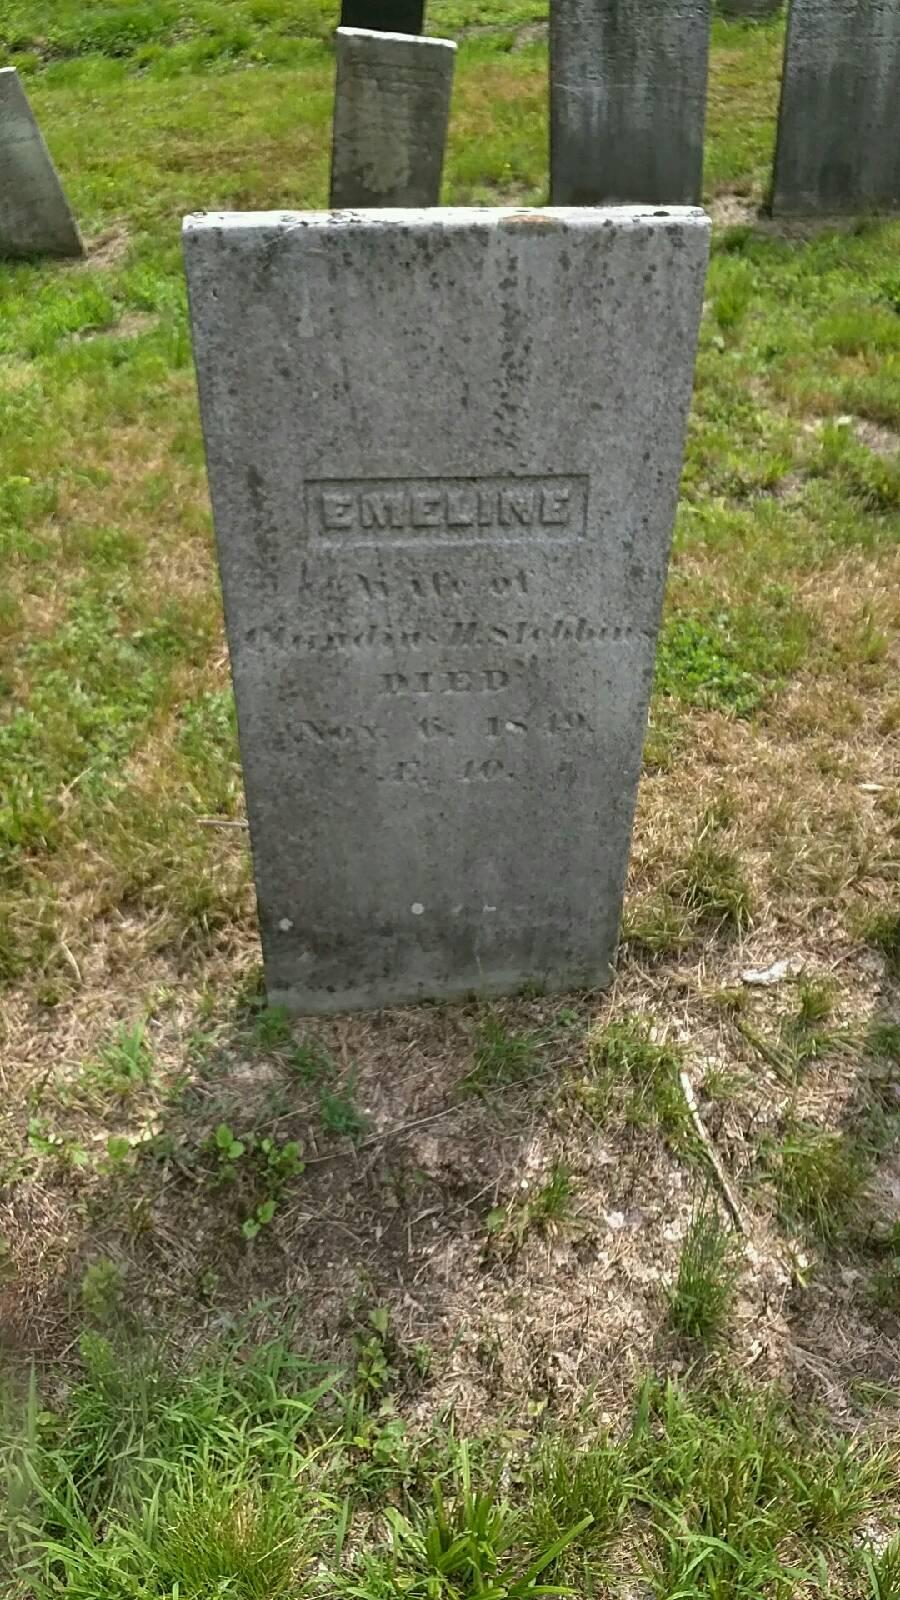upright: (165, 211, 699, 1015)
